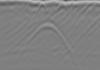hyperbola: (25, 22, 79, 64), (36, 1, 52, 18)
